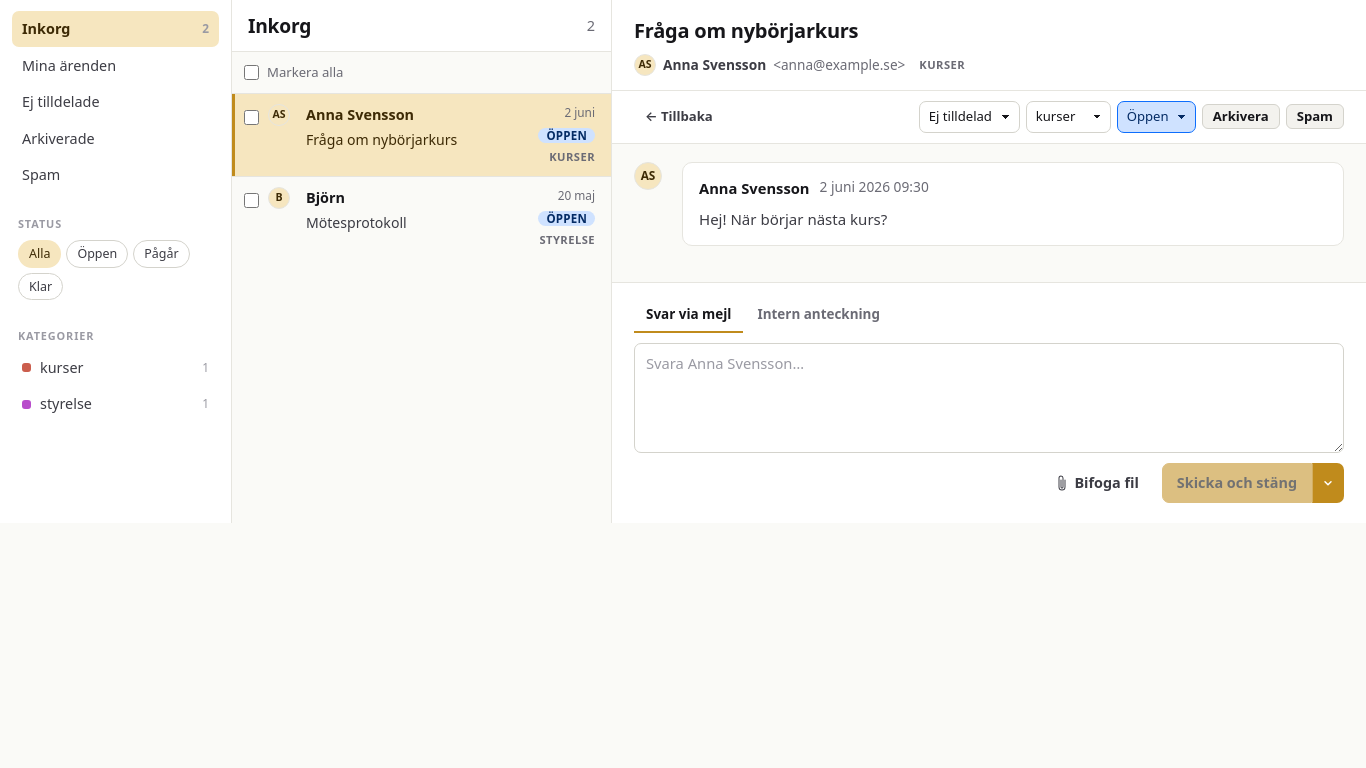
Test: InboxView (integration with store + fetch shim) › a sent reply shows inside the thread, not as a new list row
Type "Tack för din fråga!" into the text box with test id "reply-body" at (989, 398), box [634,343,1344,453]
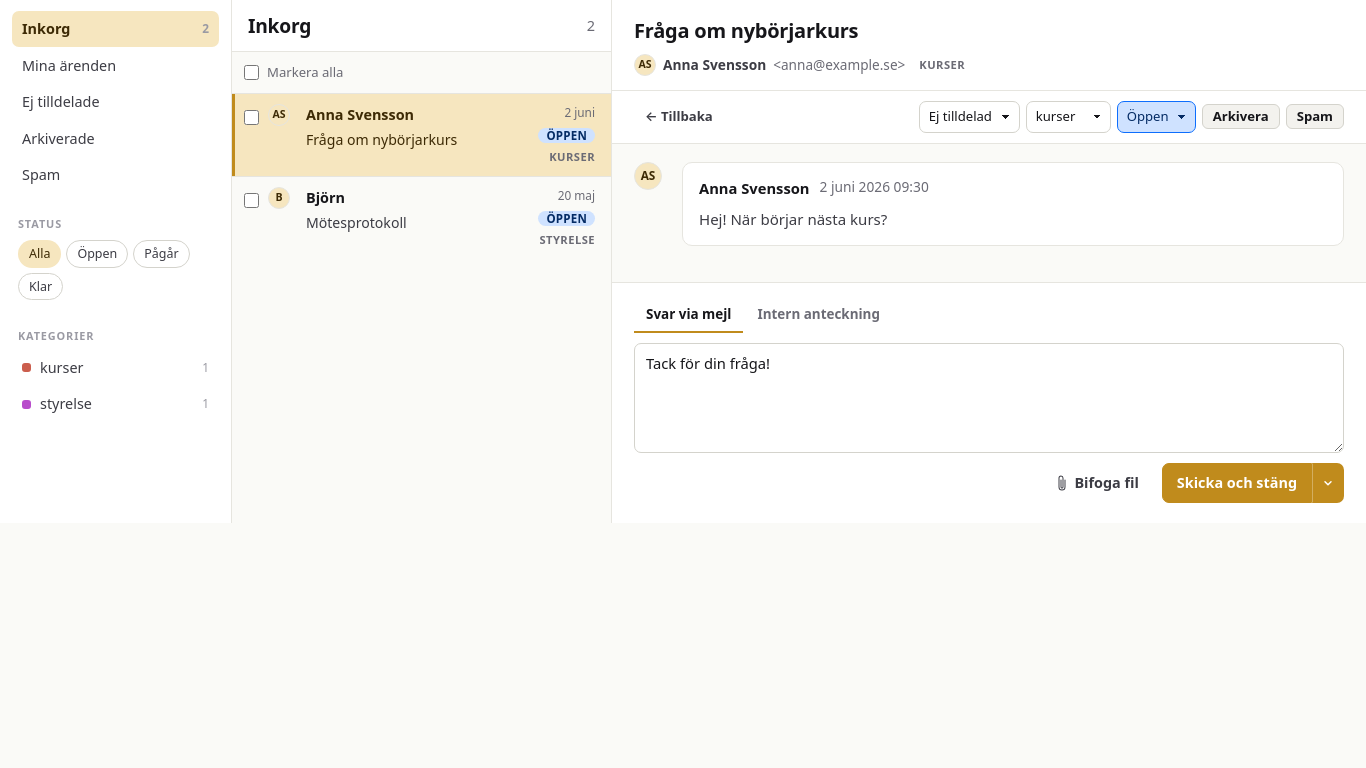
Click the button with test id "send-reply" at (1237, 483), box [1162,463,1312,503]
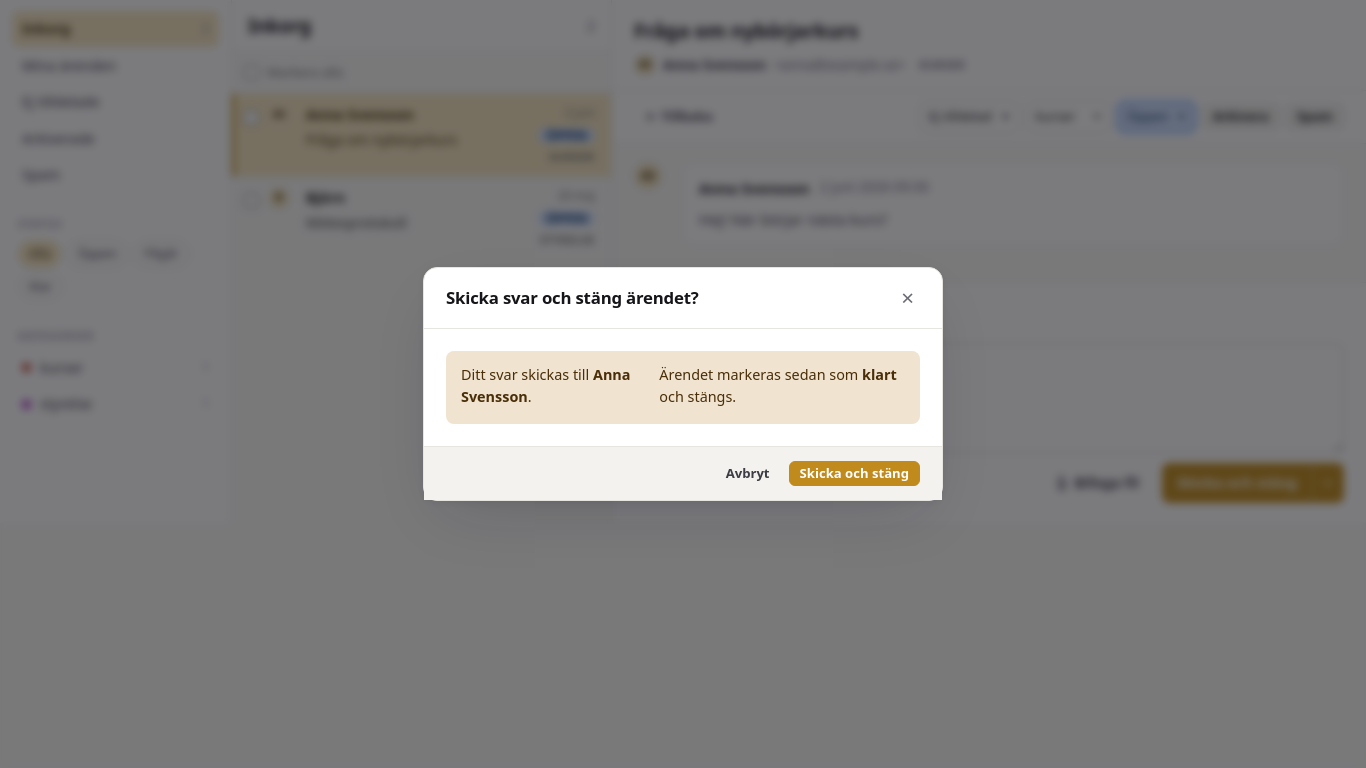
Click the button with test id "confirm-send-close" at (854, 474), box [788,461,920,486]
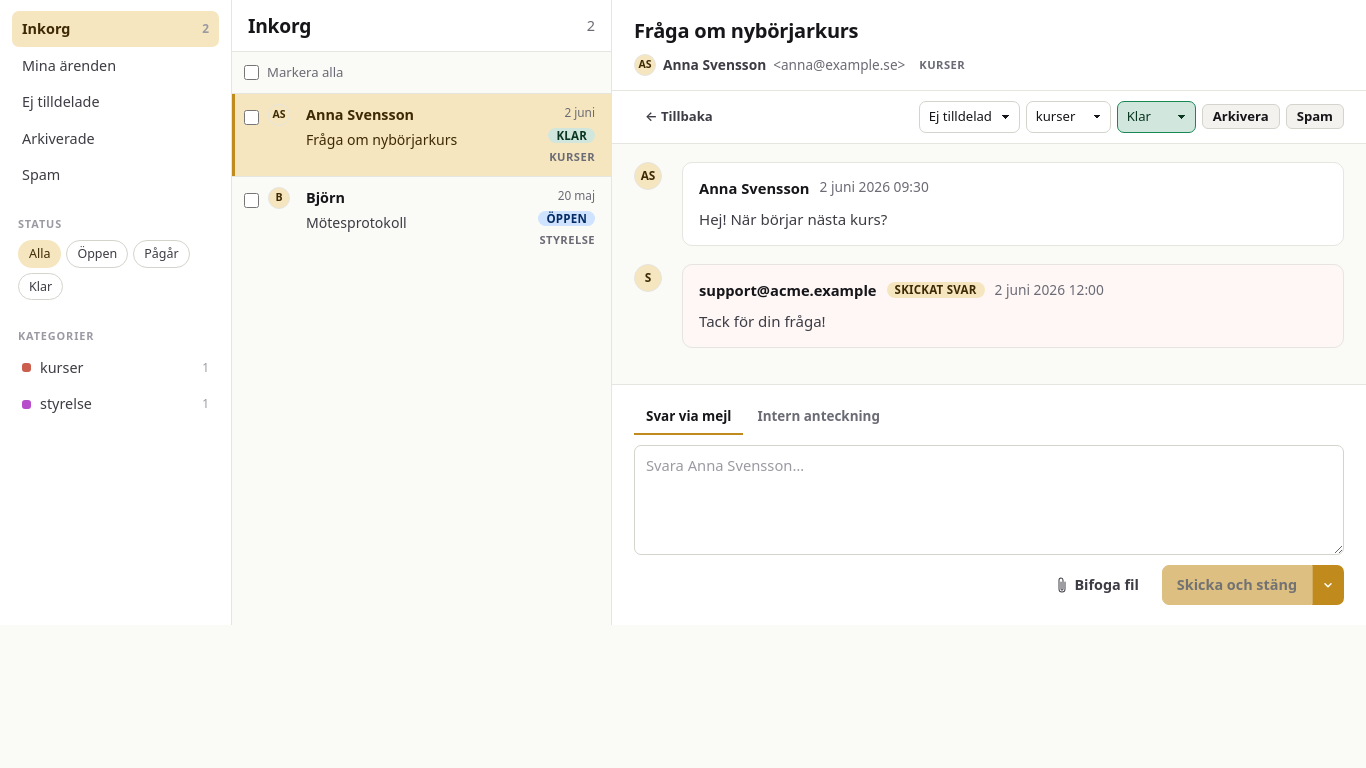
Expected: the number of buttons with class "list-item" is 2, [232,94,611,177]; [232,177,611,259]
Now the number of elements with test id "thread-msg" is 2, box [634,162,1344,246]; [634,264,1344,348]
